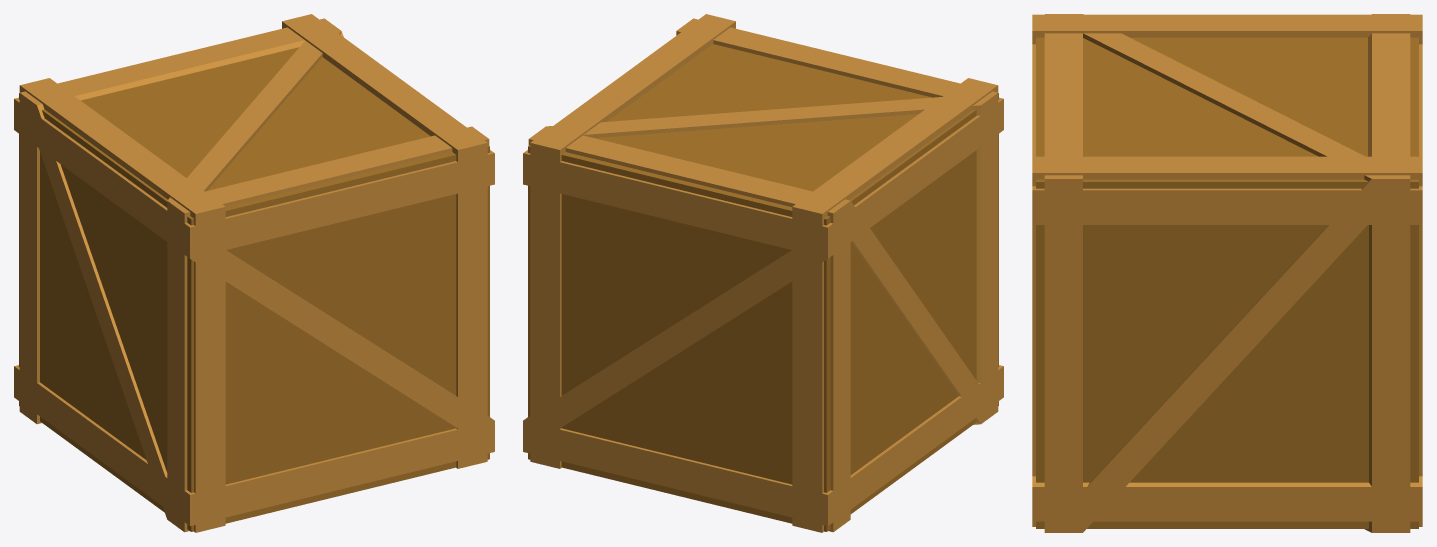
3 renders of one model, left to right at view 1: azimuth 30°, elevation 25°; view 2: azimuth 150°, elevation 25°; view 3: azimuth 270°, elevation 25°, orthographic. The views are drawn at different scales.
Visible parts, largest first — view 1: Cube, Cube_10; view 2: Cube, Cube_10; view 3: Cube, Cube_10.
Part boxes in pixels (bbox=[...]): Cube: bbox=[19, 47, 489, 531]; Cube_10: bbox=[14, 14, 494, 532]; Cube: bbox=[528, 44, 998, 531]; Cube_10: bbox=[523, 14, 1003, 532]; Cube: bbox=[1036, 37, 1418, 528]; Cube_10: bbox=[1032, 14, 1422, 532].
Size of the model in its own units: 72.62 by 73.09 by 72.62.
